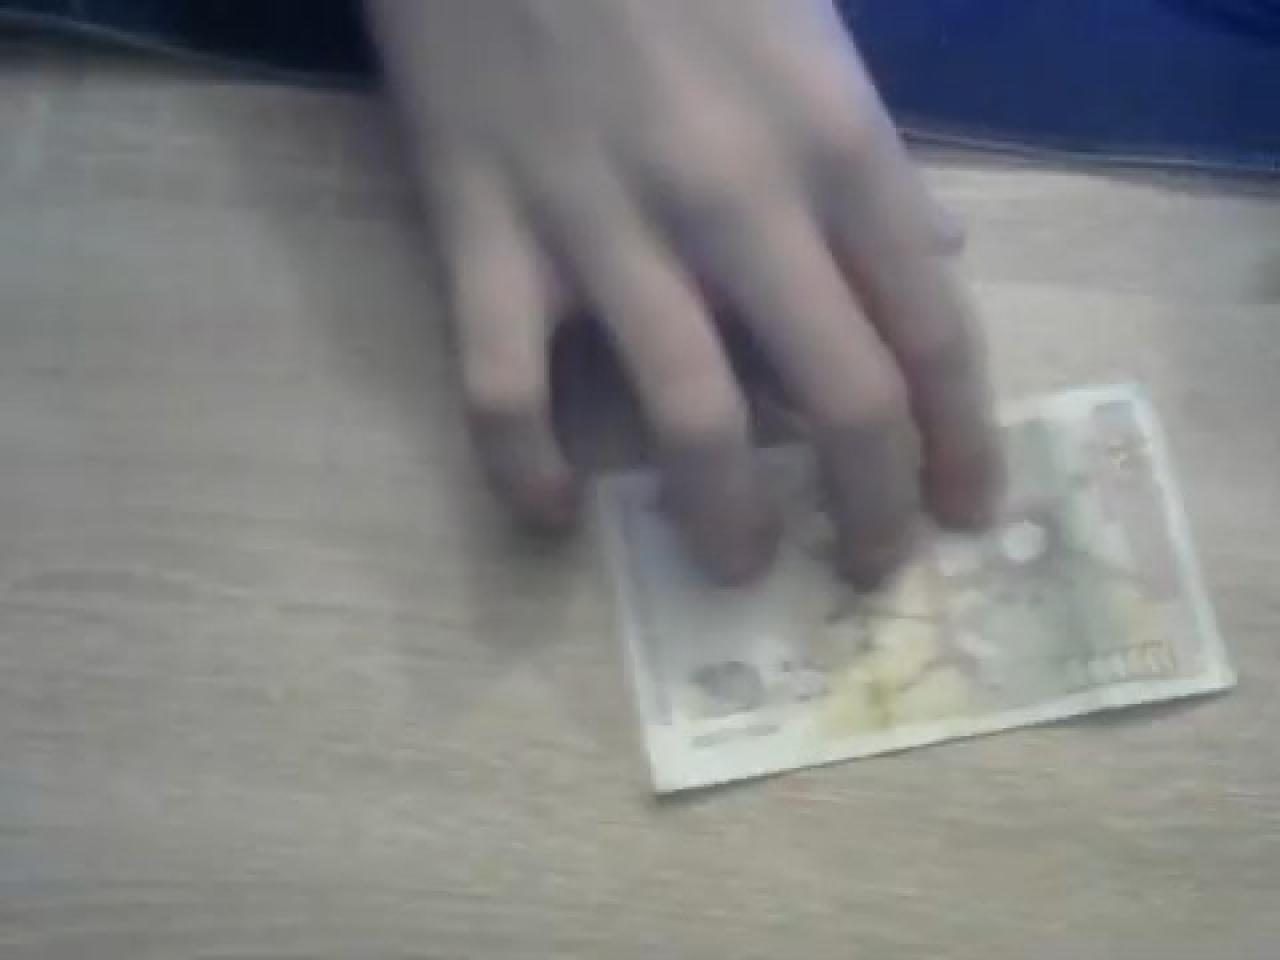10leva: (587, 384, 1238, 803)
